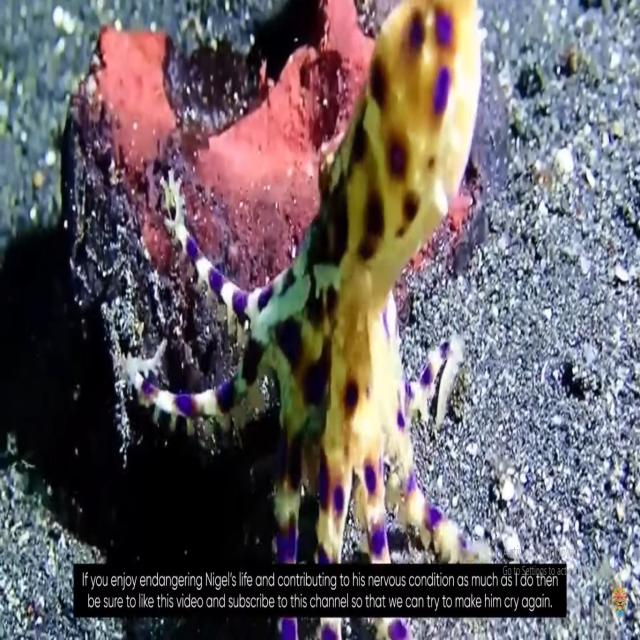blue_ringed_octopus: (125, 0, 482, 639)
